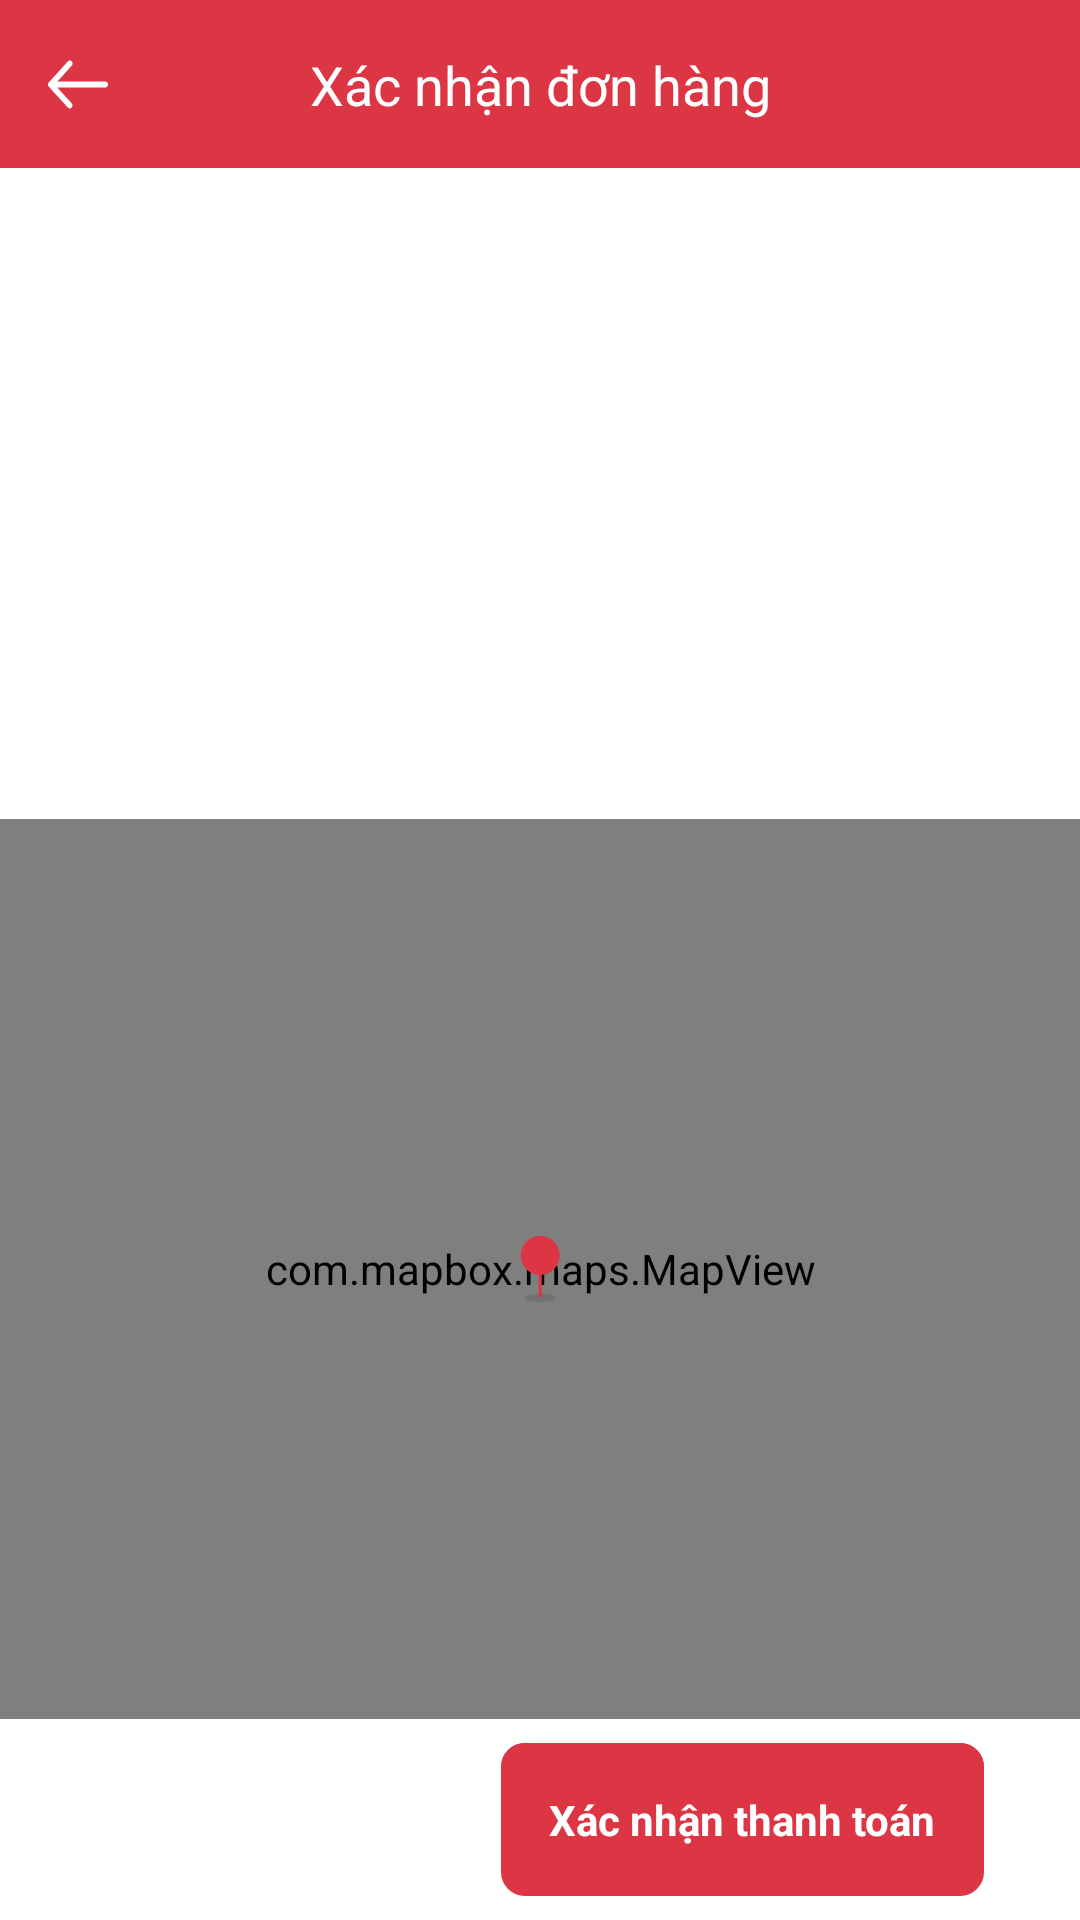

Screen size 1080w x 1920h. Icon name, then its box in pixels as (x1,y1,x2,y2):
back: (48,60,108,109)
point in map: (519,1236,560,1298)
